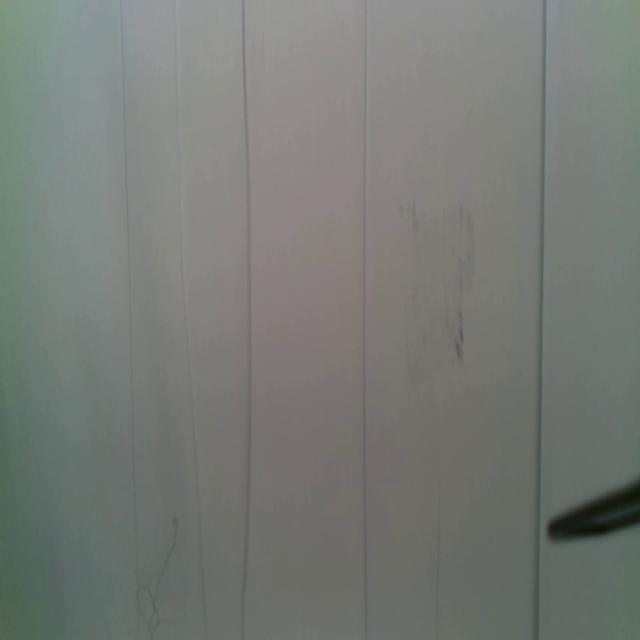crease: (176, 0, 208, 640), (119, 1, 141, 630), (534, 0, 550, 640), (240, 0, 254, 640), (360, 0, 370, 640), (434, 487, 442, 640)
